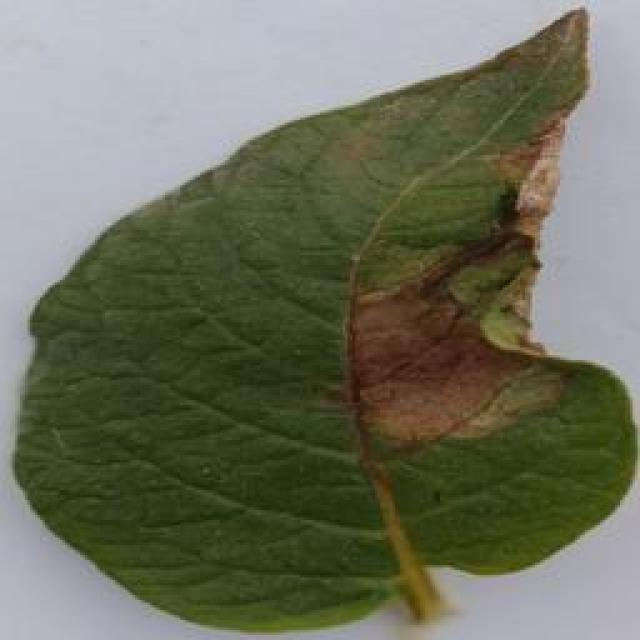Potato_Late_Blight: (14, 11, 625, 633)
